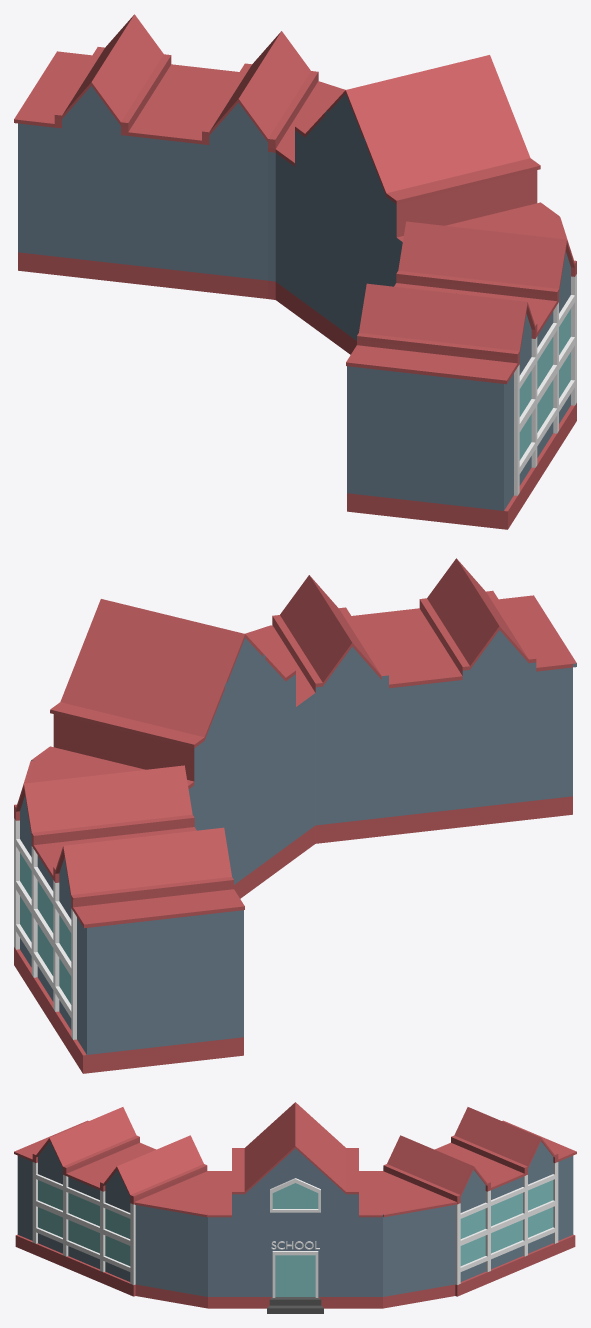
The model's file is school.glb.
3 renders of one model, top to bottom at view 1: azimuth 30°, elevation 25°; view 2: azimuth 150°, elevation 25°; view 3: azimuth 270°, elevation 25°, orthographic. The views are drawn at different scales.
Visible parts, largest first — view 1: School; view 2: School; view 3: School.
Boxes of the visible parts, left/top/right/bottom form: School: left=14, top=14, right=576, bottom=529; School: left=14, top=558, right=576, bottom=1073; School: left=14, top=1102, right=576, bottom=1313.
Bounding box in the file's own units: 9.21 × 7.1 × 22.14.
